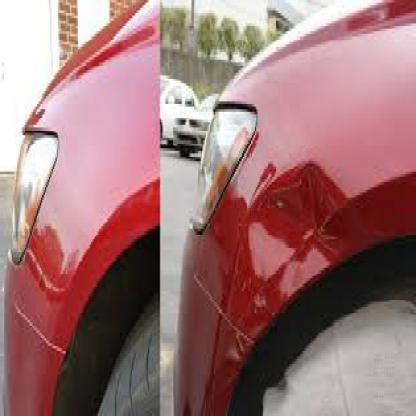dent: (230, 160, 358, 272)
